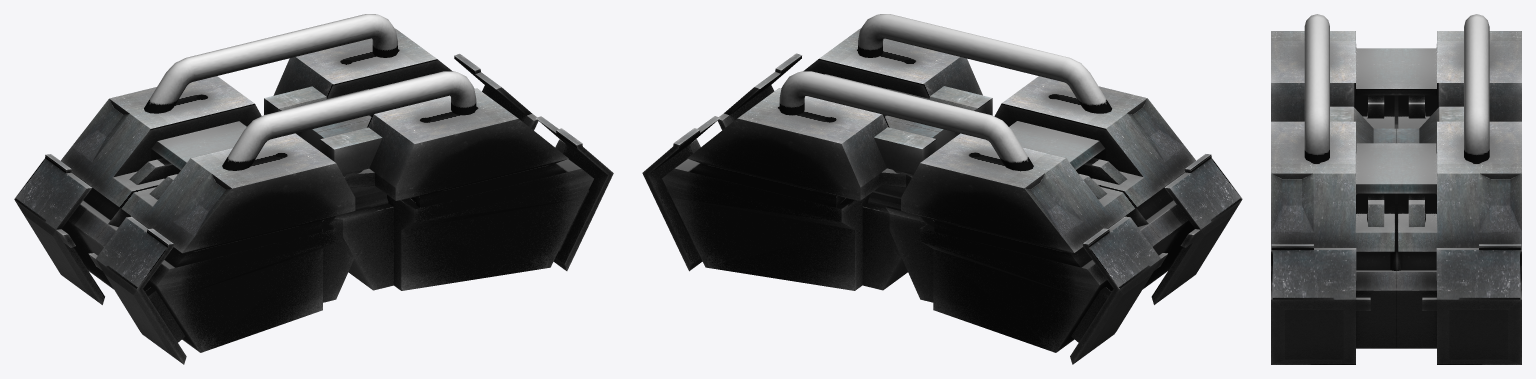
Rendered from four_wheel.dae.
3 views of the same model, side by side, from view 1: azimuth 30°, elevation 25°; view 2: azimuth 150°, elevation 25°; view 3: azimuth 270°, elevation 25° (orthographic).
Visible parts, largest first — view 1: Cube.011; view 2: Cube.011; view 3: Cube.011.
Part boxes in pixels (bbox=[...]): Cube.011: bbox=[14, 14, 613, 364]; Cube.011: bbox=[642, 14, 1242, 364]; Cube.011: bbox=[1271, 14, 1521, 364].
Bounding box in the file's own units: 5.85 × 2.62 × 2.42.
